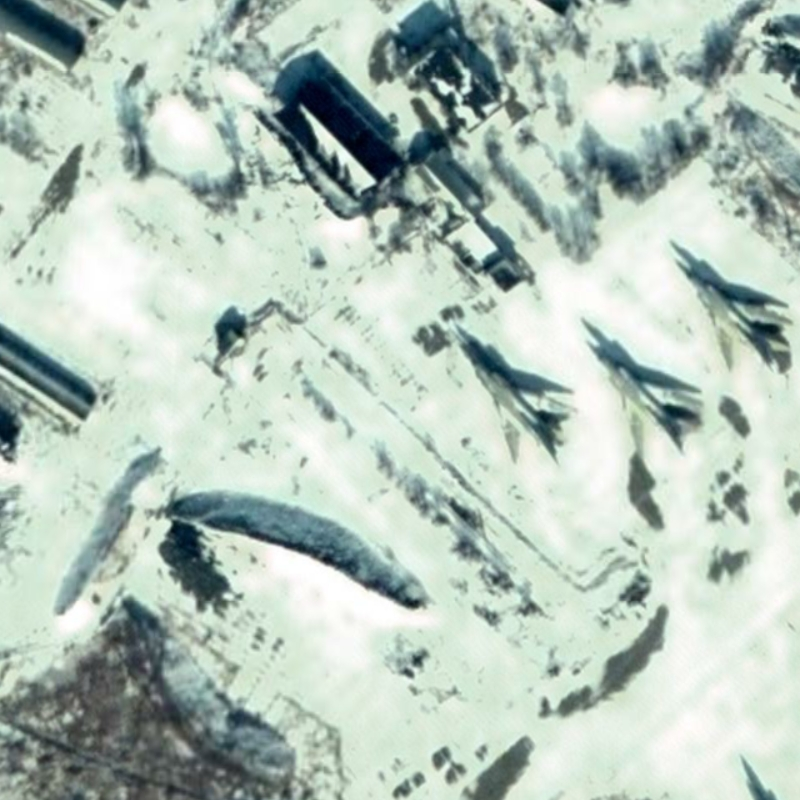A12: (442, 316, 581, 468), (670, 254, 795, 378), (582, 337, 706, 456)
